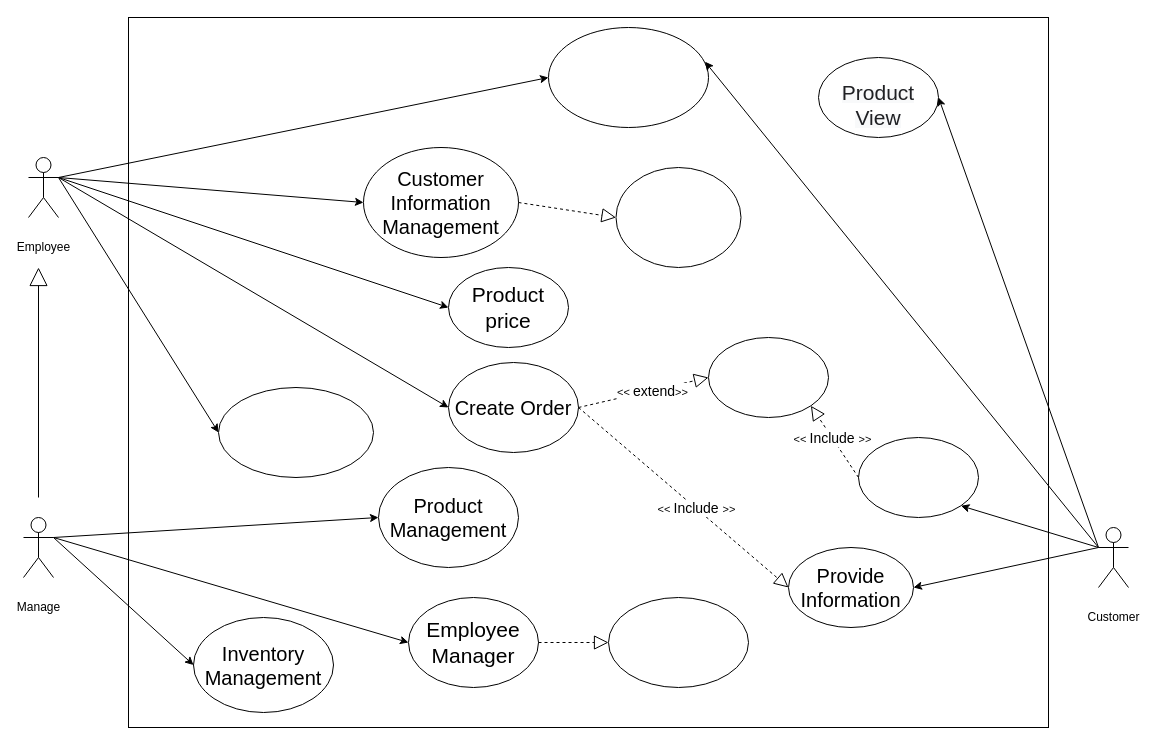
Image size: 1157x745. Some labels were removed from this diagram. The centre of each missing label's shape, as x and y in pixels:
"add edit delete customer" belongs at (678,217).
"add edit delete employee" belongs at (678,642).
"Buy Product" belongs at (918,477).
"Pay The Bill" belongs at (768,377).
"Provide Product Information" belongs at (296,432).
"Register and login" belongs at (628,77).
